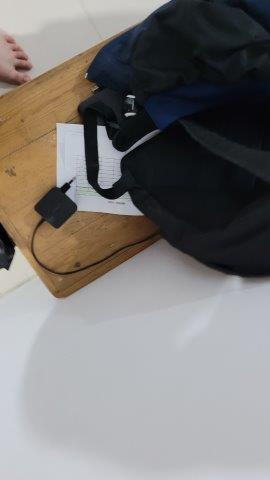kertas: (55, 123, 148, 216)
